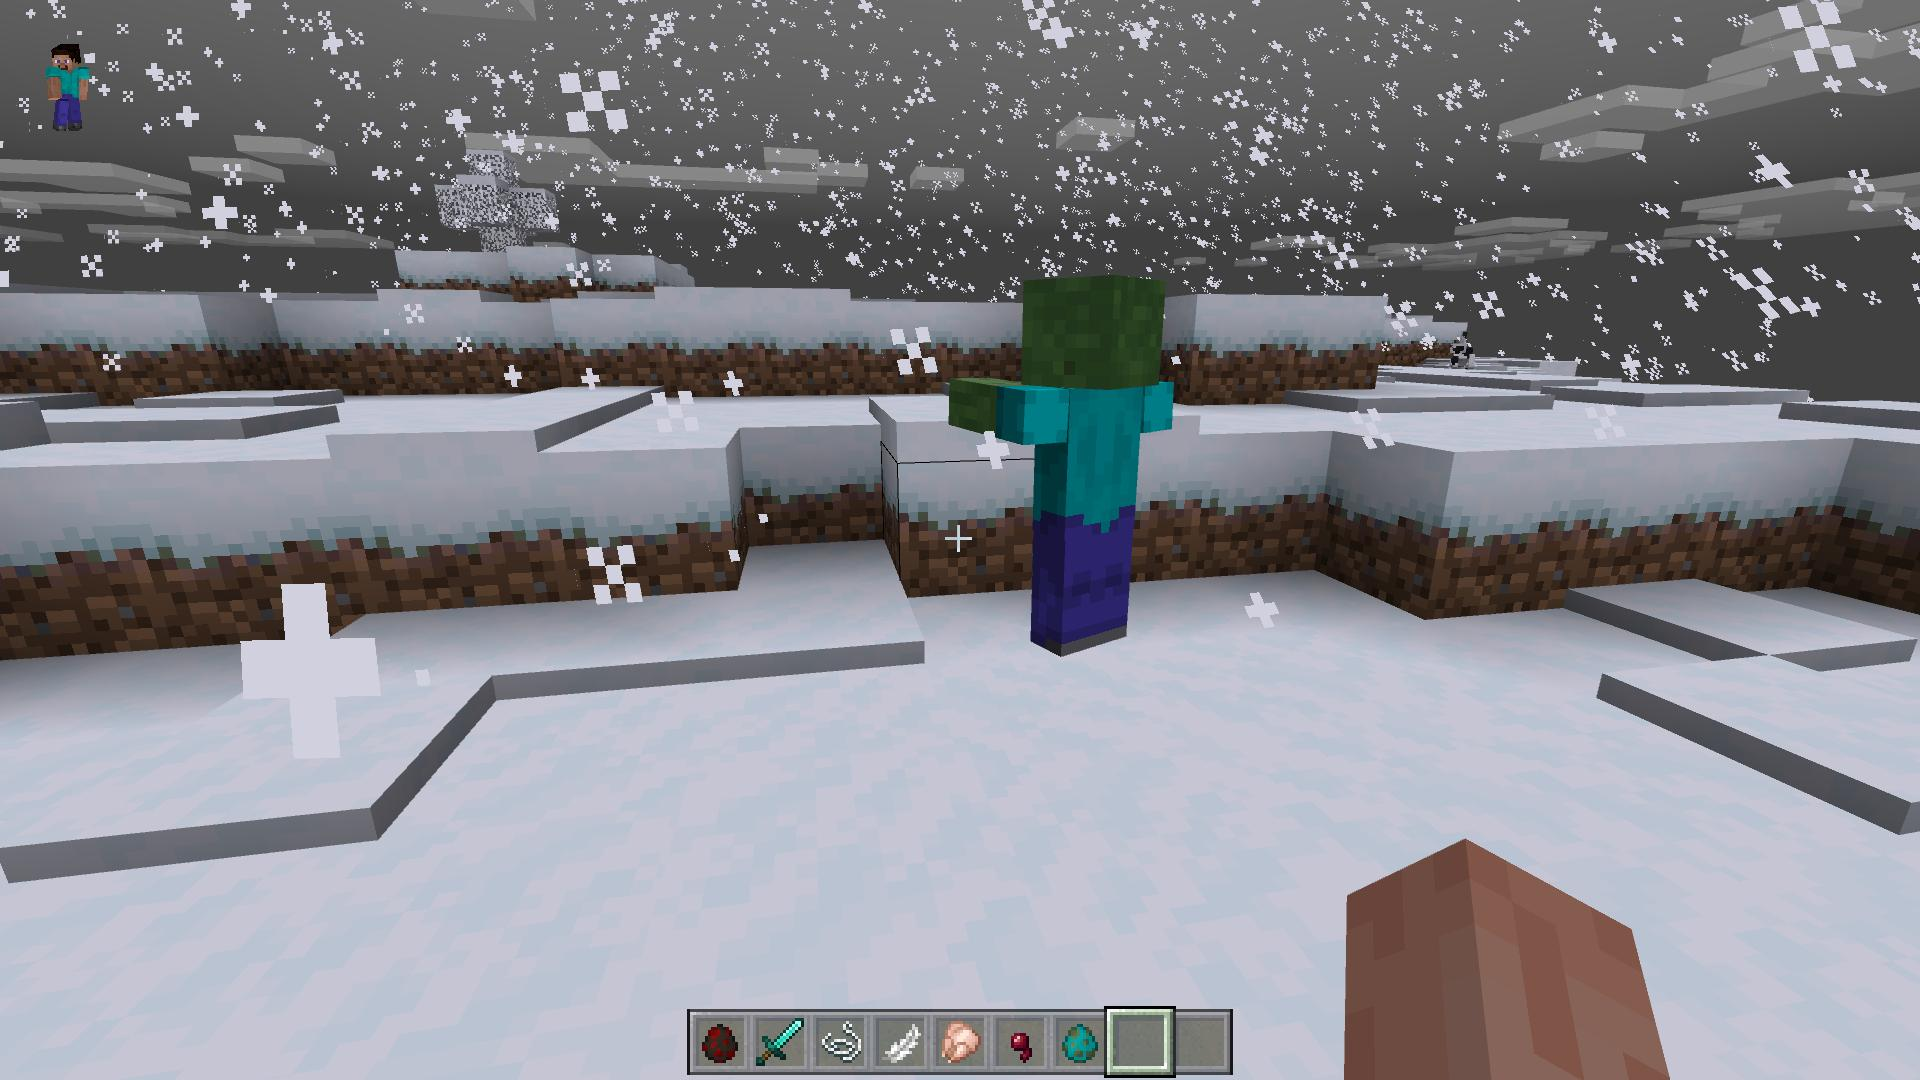zombie: (956, 273, 1176, 657)
